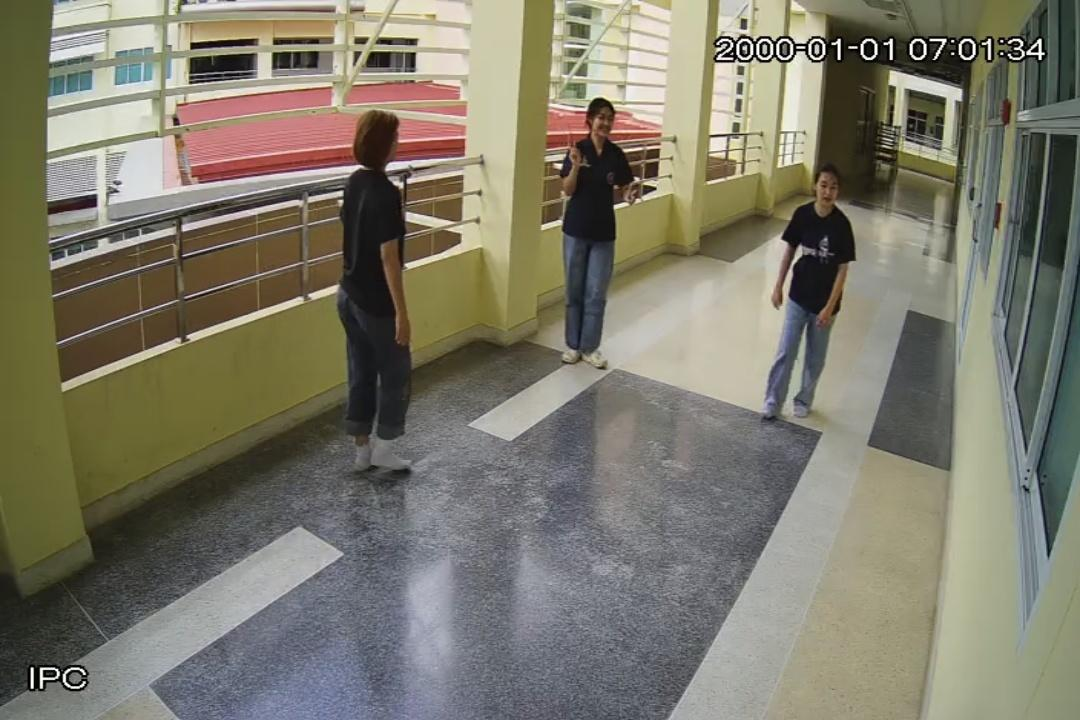normal: (338, 106, 415, 471), (758, 163, 853, 426), (560, 98, 639, 366)
